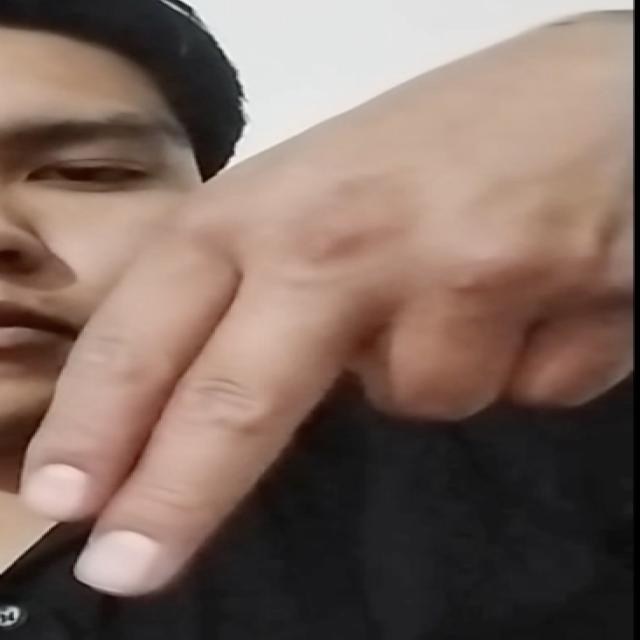N: (15, 6, 630, 605)
